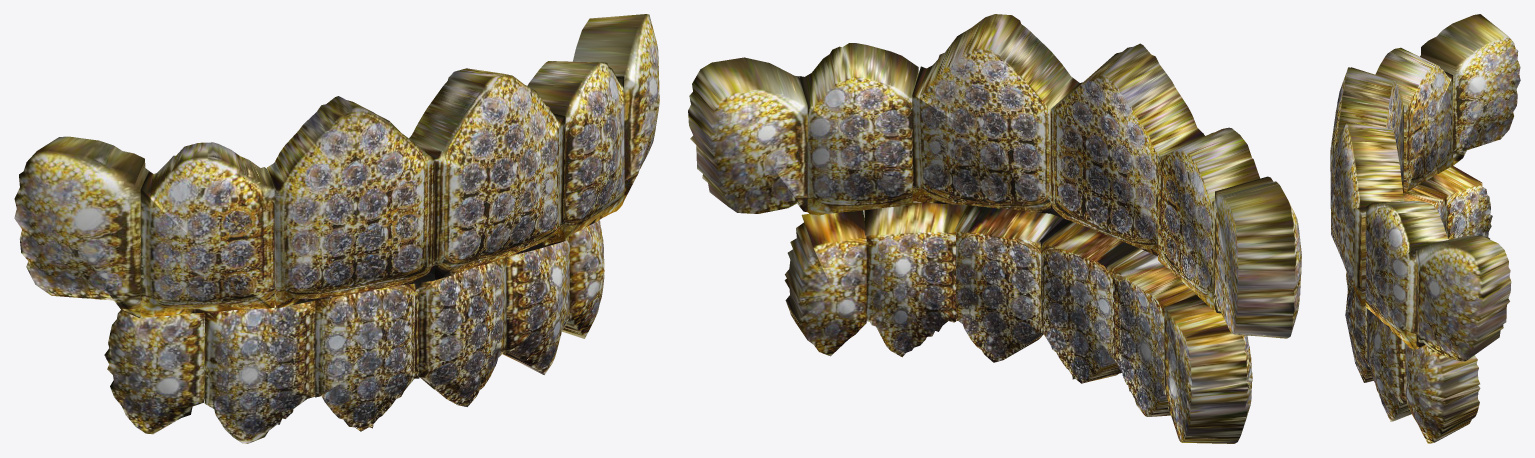
Rendered from grillz_photo.obj.
The picture shows the model from 3 angles, left to right: view 1: azimuth 30°, elevation 25°; view 2: azimuth 150°, elevation 25°; view 3: azimuth 270°, elevation 25°; orthographic projection. The views are drawn at different scales.
Visible parts, largest first — view 1: Grillz; view 2: Grillz; view 3: Grillz.
Boxes of the visible parts, <box> form: Grillz: <box>14,14,659,443</box>; Grillz: <box>688,14,1301,443</box>; Grillz: <box>1330,14,1520,443</box>.
Size of the model in its own units: 1.9 by 0.9812 by 0.624.
1 material, 1 textured.
